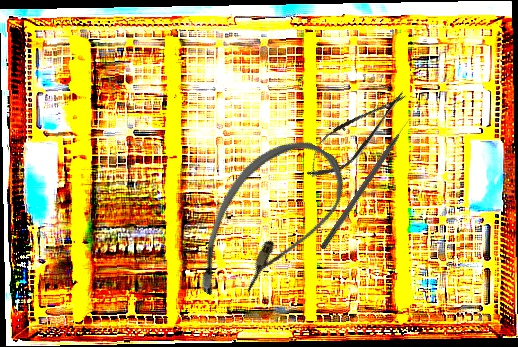Cannula: (178, 119, 360, 329)
Hook Surgical: (319, 116, 415, 251)
Micro Scissor: (295, 78, 417, 190)
